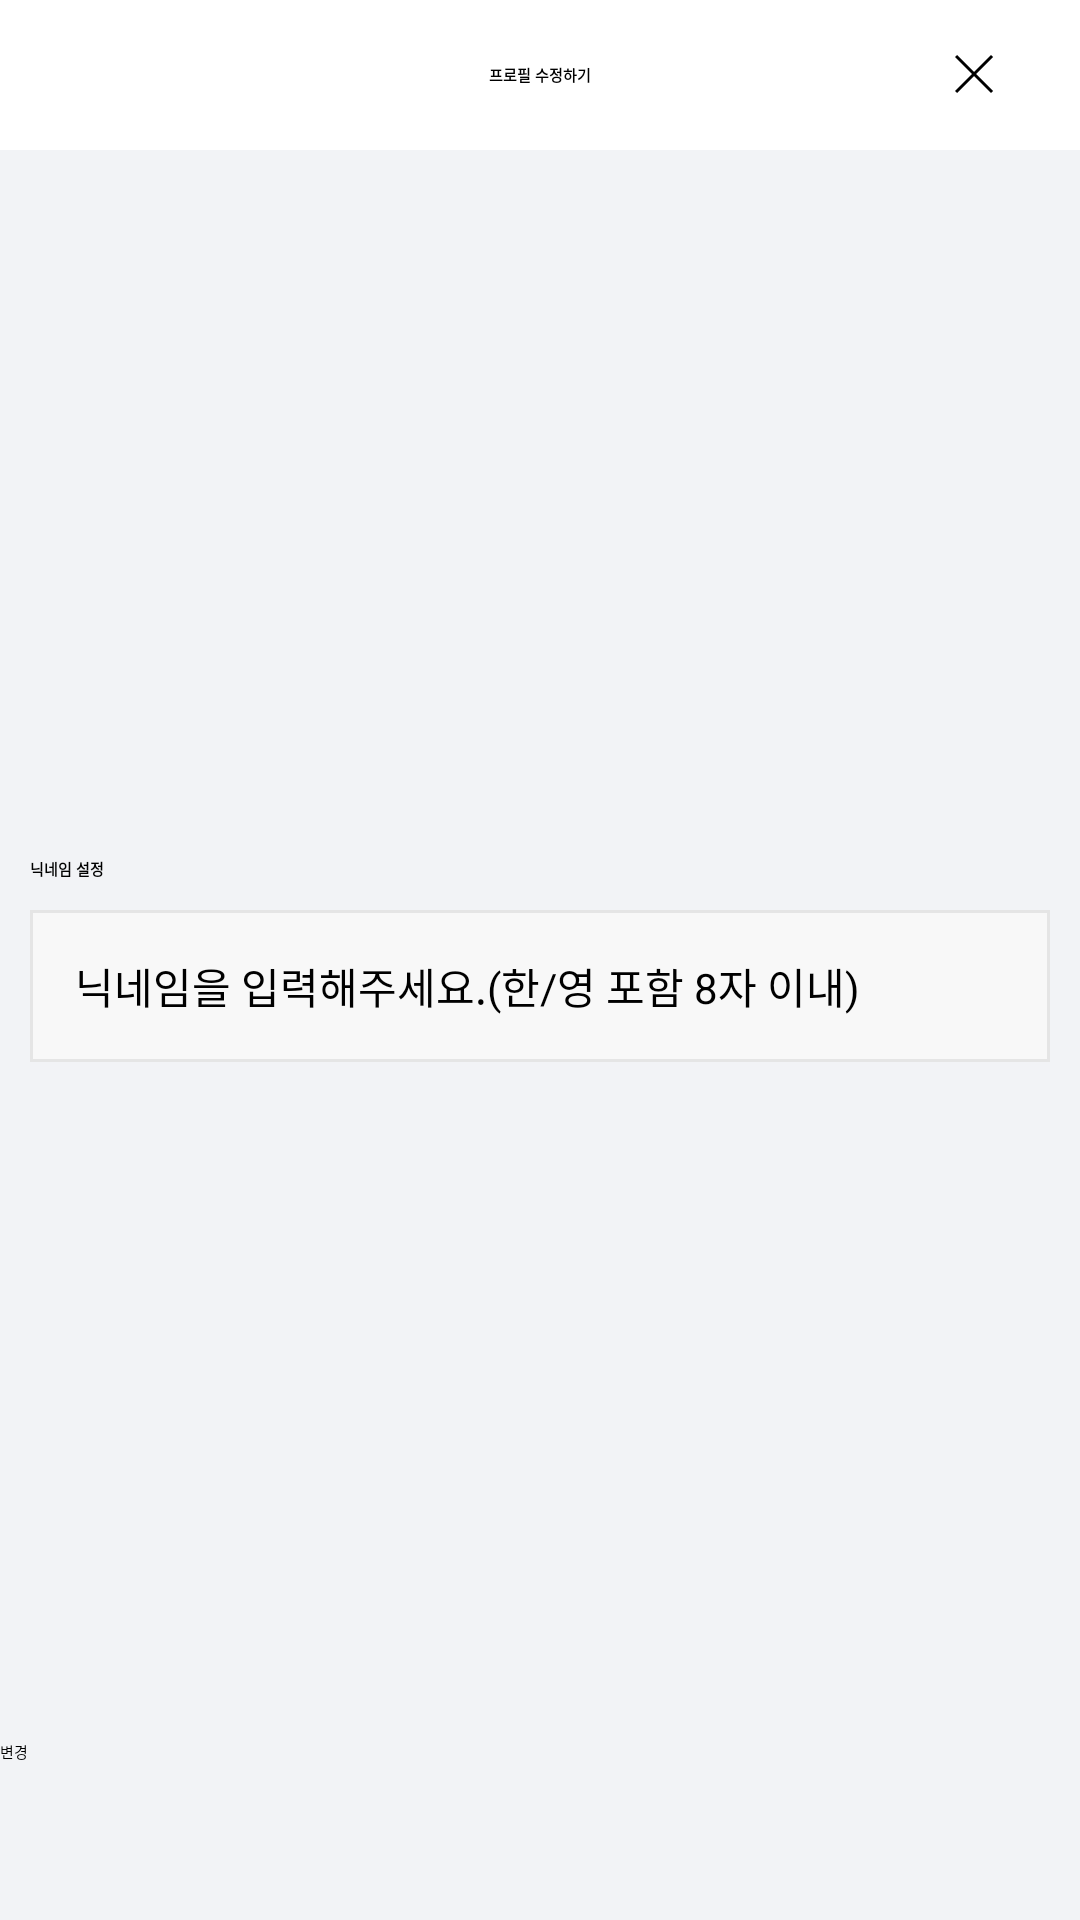

Locate icon controls on the screen. Image size 1080 × 1920, boxes as BBox(x1, y1, x2, y2).
spot close: BBox(955, 55, 993, 93)
